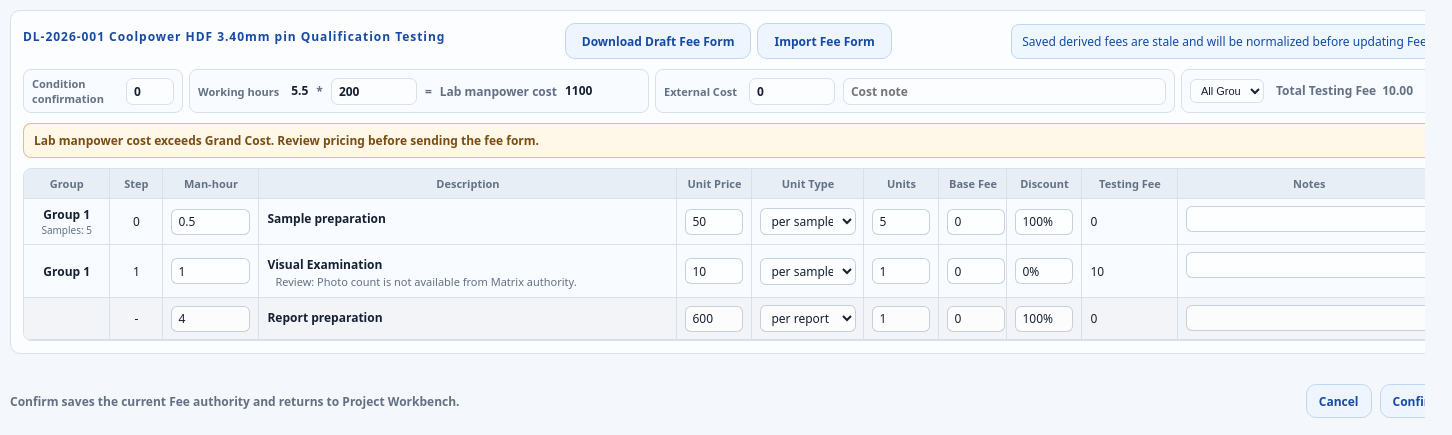
Test: FeeEvaluationReviewExportPage › stays on Fee Evaluation when baseline restore fails
Expected: the table named "Testing Prices preview rows" is shown, [24,169,1440,340]
Replace the text in the field named "Unit Price for Visual Examination" with "12": point(714, 271) [686,258,744,284]
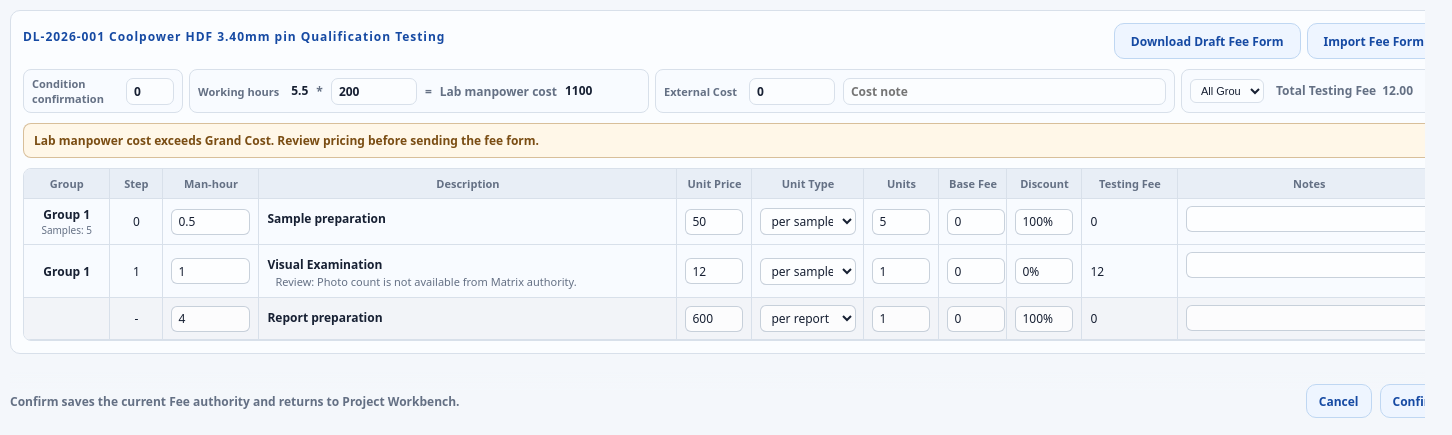
Click the button "Cancel": point(1339, 401) [1306,384,1372,418]
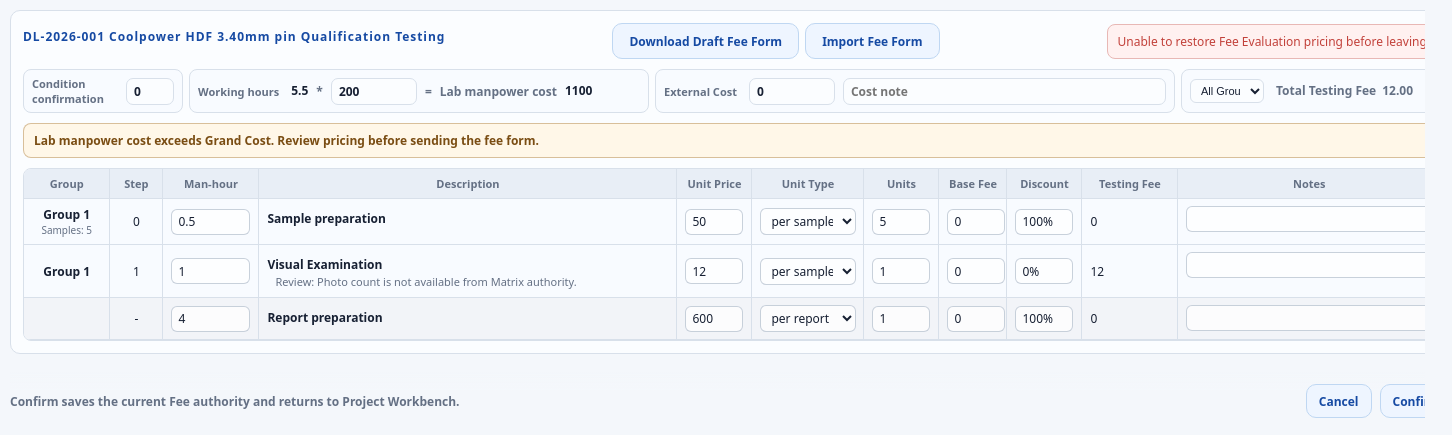
Expected: the text "Unable to restore Fee Evaluation pricing before leaving." is shown once, [1107,24,1441,58]
